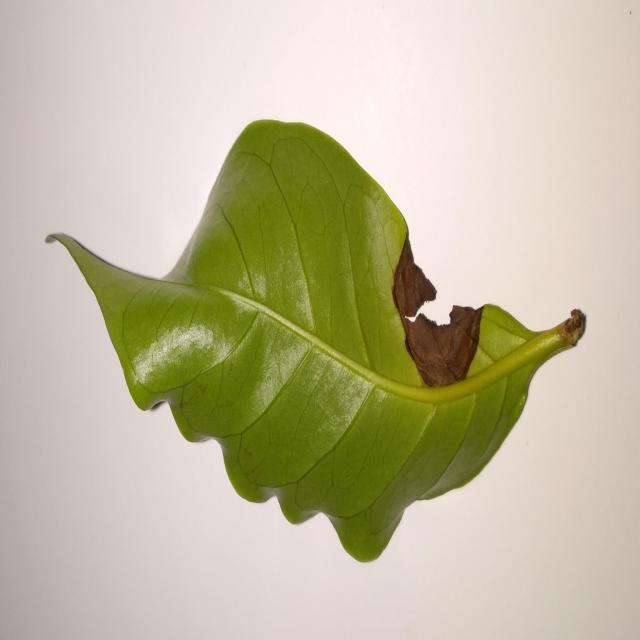Enfermedad-Antracnosis: (44, 120, 588, 566)
